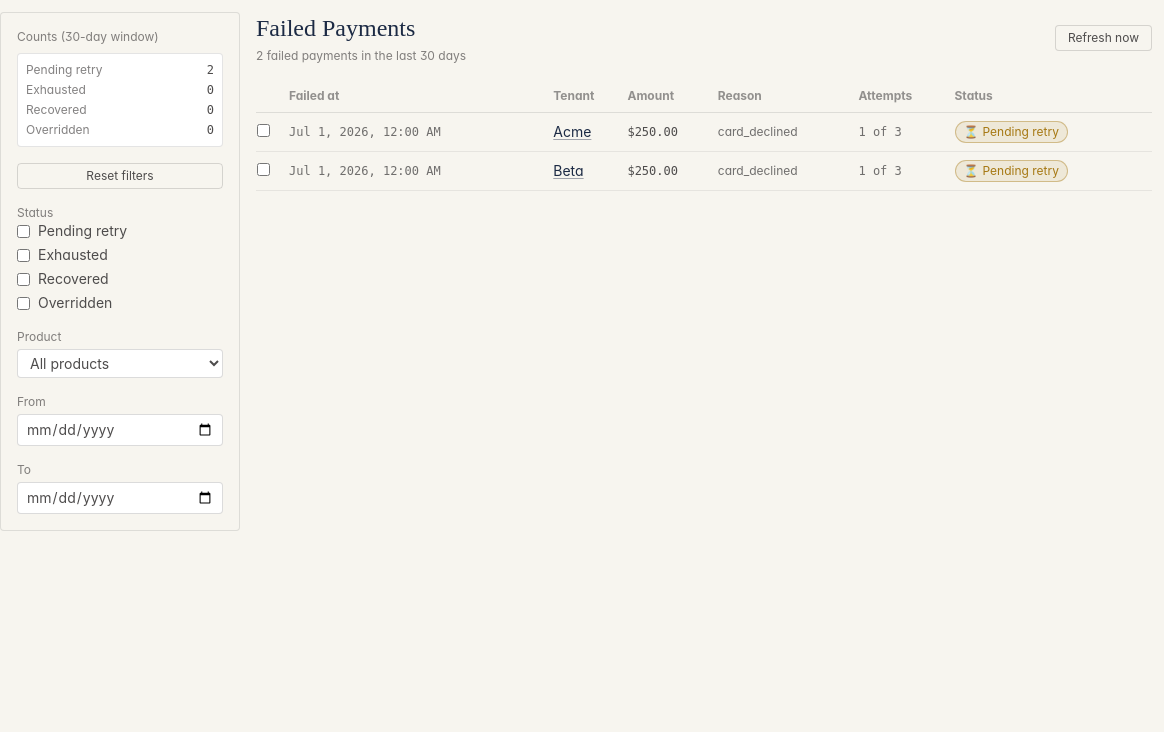
Test: FailedPaymentsBulkEmailBar (HUB-1692) › selecting a row shows the bar with the count
Click the checkbox named "Select Acme".
click(264, 130)  # box top-left (257, 124), bottom-right (270, 137)
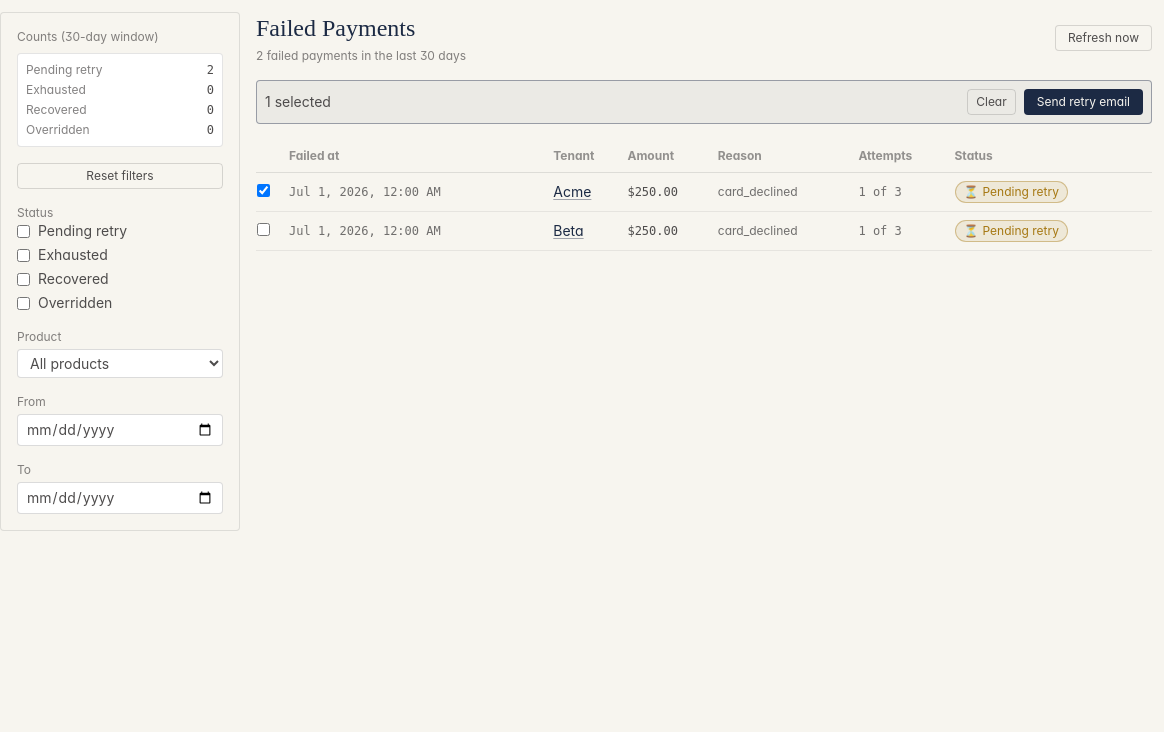
Now the element with test id "failed-payments-bulk-bar" is shown, box top-left (256, 80), bottom-right (1152, 124)
Now the text with test id "failed-payments-bulk-count" reads "1 selected", box top-left (265, 92), bottom-right (331, 112)
